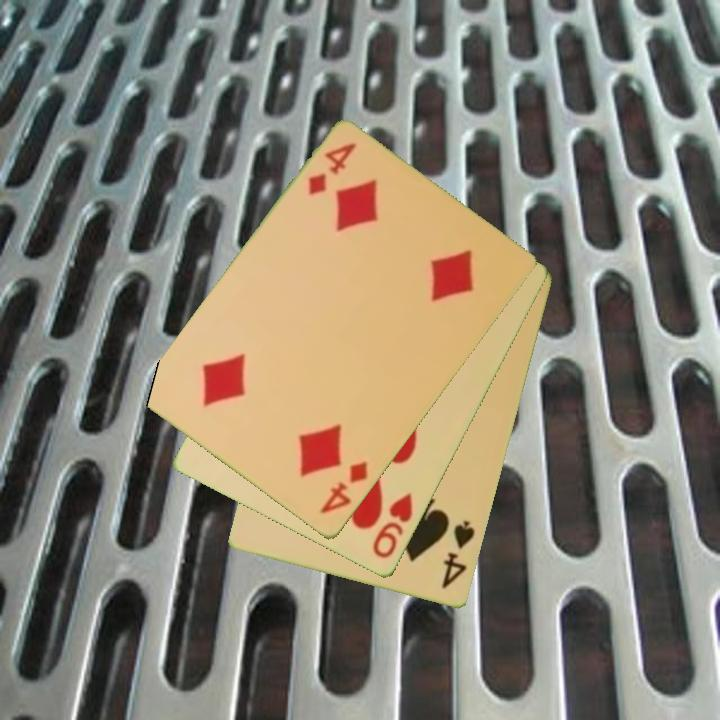4d: (304, 139, 359, 199), (316, 458, 371, 517)
4s: (438, 517, 478, 592)
9h: (369, 490, 416, 562)
